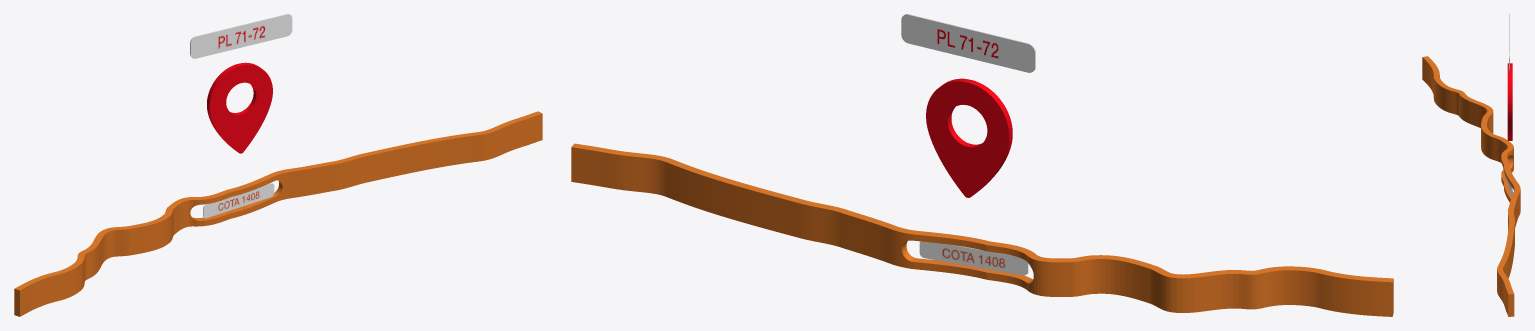
File: animacionar2.glb
The picture shows the model from 3 angles, left to right: view 1: azimuth 30°, elevation 25°; view 2: azimuth 150°, elevation 25°; view 3: azimuth 270°, elevation 25°; orthographic projection. The views are drawn at different scales.
Parts seen in each view (by area): view 1: Cota De Inundacion.002, Cubo.001; view 2: Cota De Inundacion.002, Cubo.001; view 3: Cota De Inundacion.002, Cubo.001.
Boxes of the visible parts, <box> form: Cota De Inundacion.002: <box>14,111,542,316</box>; Cubo.001: <box>190,14,292,153</box>; Cota De Inundacion.002: <box>571,143,1393,316</box>; Cubo.001: <box>901,14,1035,197</box>; Cota De Inundacion.002: <box>1422,56,1520,316</box>; Cubo.001: <box>1507,14,1512,140</box>.
Size of the model in its own units: 202 by 62.92 by 35.16.
Materials: 6 (2 with a texture image).
